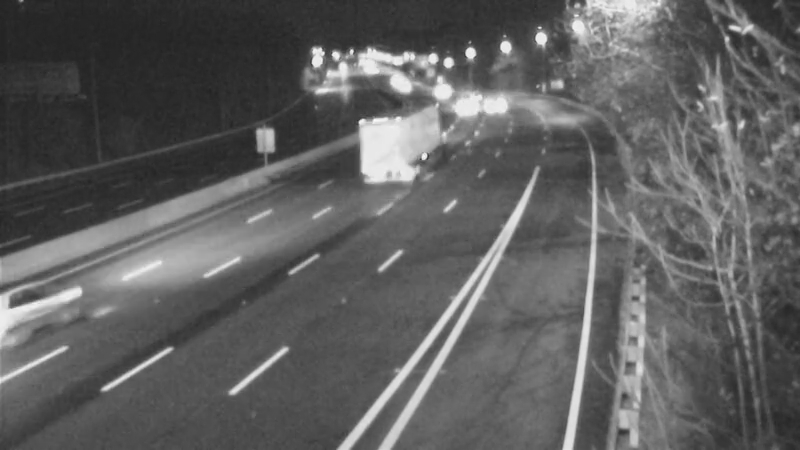vehicle: (1, 259, 81, 339), (379, 62, 429, 112), (416, 67, 466, 117), (450, 75, 500, 125), (467, 80, 517, 130), (440, 80, 490, 130), (359, 117, 409, 167)
